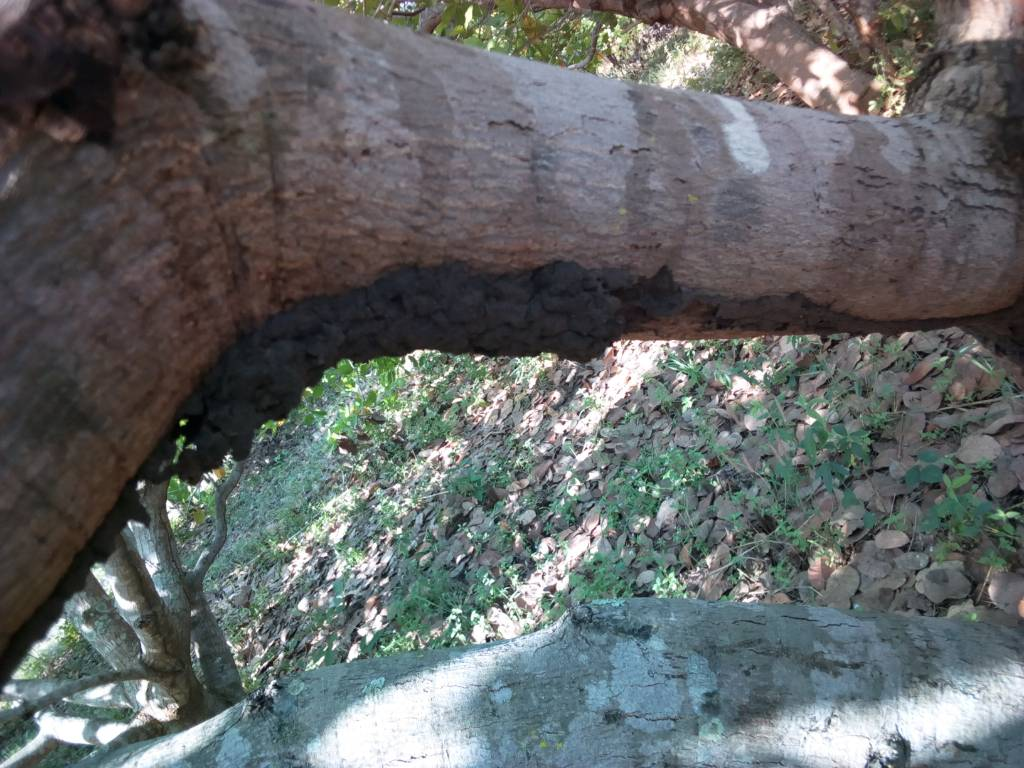Termites: (318, 271, 659, 355), (157, 330, 301, 483)
